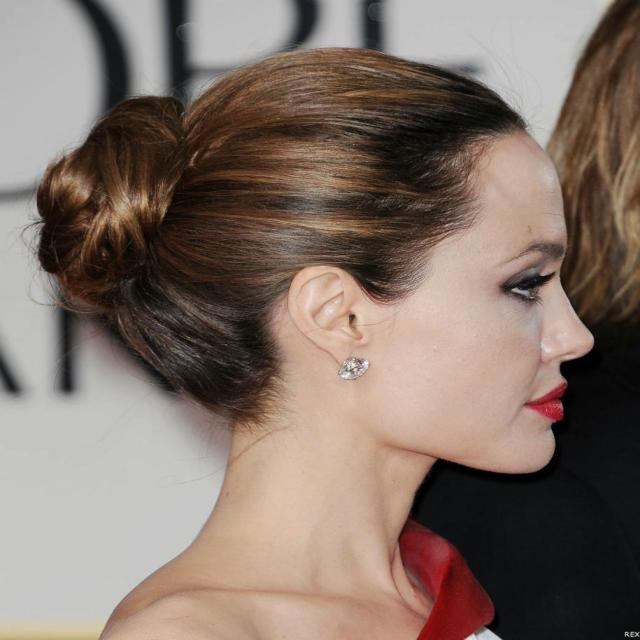no-earmuff: (273, 249, 403, 402)
